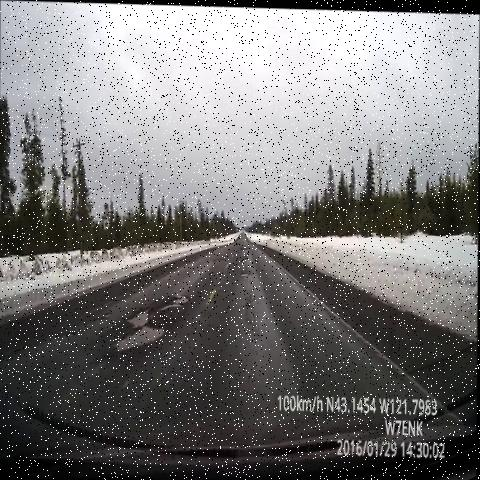pothole: (112, 312, 172, 366), (120, 300, 156, 334), (158, 286, 194, 318), (50, 320, 80, 347), (235, 264, 263, 285), (96, 299, 116, 325), (210, 248, 231, 272)
